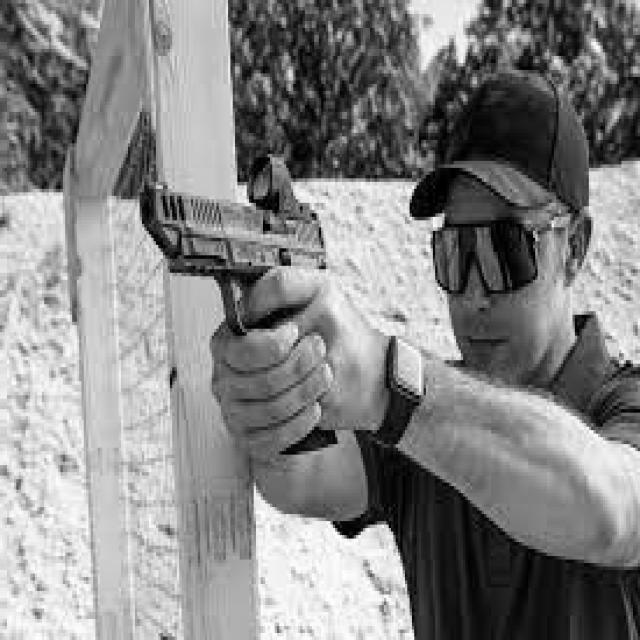weapons: (128, 156, 336, 438)
